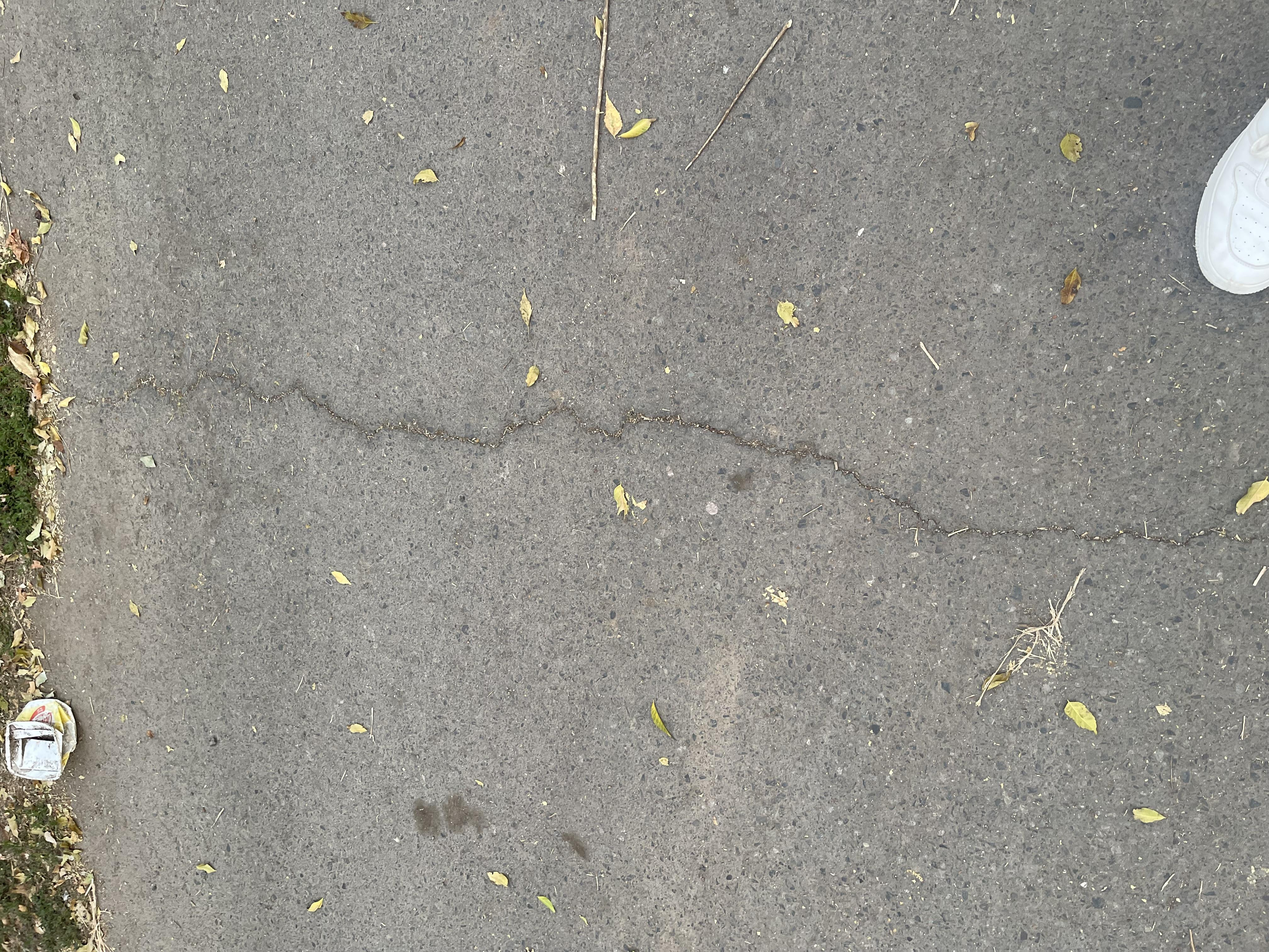GRIETA: (190, 371, 1149, 541), (101, 377, 190, 405), (1148, 527, 1269, 547)
